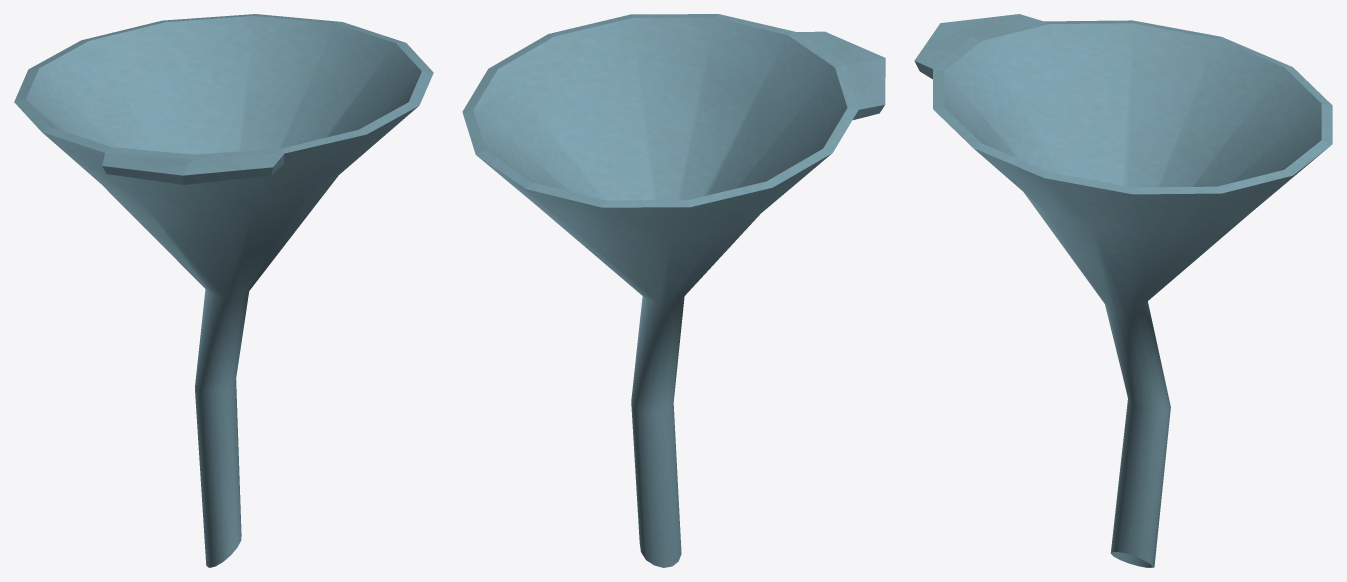
The model's file is env_LabDesk_Object_Funnel.fbx.
3 renders of one model, left to right at view 1: azimuth 30°, elevation 25°; view 2: azimuth 150°, elevation 25°; view 3: azimuth 270°, elevation 25°, orthographic. The views are drawn at different scales.
Parts seen in each view (by area): view 1: env_LabDesk_Funnel; view 2: env_LabDesk_Funnel; view 3: env_LabDesk_Funnel.
Part boxes in pixels (box(x1,y1,x2,y2)): env_LabDesk_Funnel: box(14, 14, 433, 567); env_LabDesk_Funnel: box(462, 14, 885, 567); env_LabDesk_Funnel: box(914, 14, 1332, 567).
Size of the model in its own units: 3.54 by 4.6 by 3.6.
Materials: 1 (1 with a texture image).
